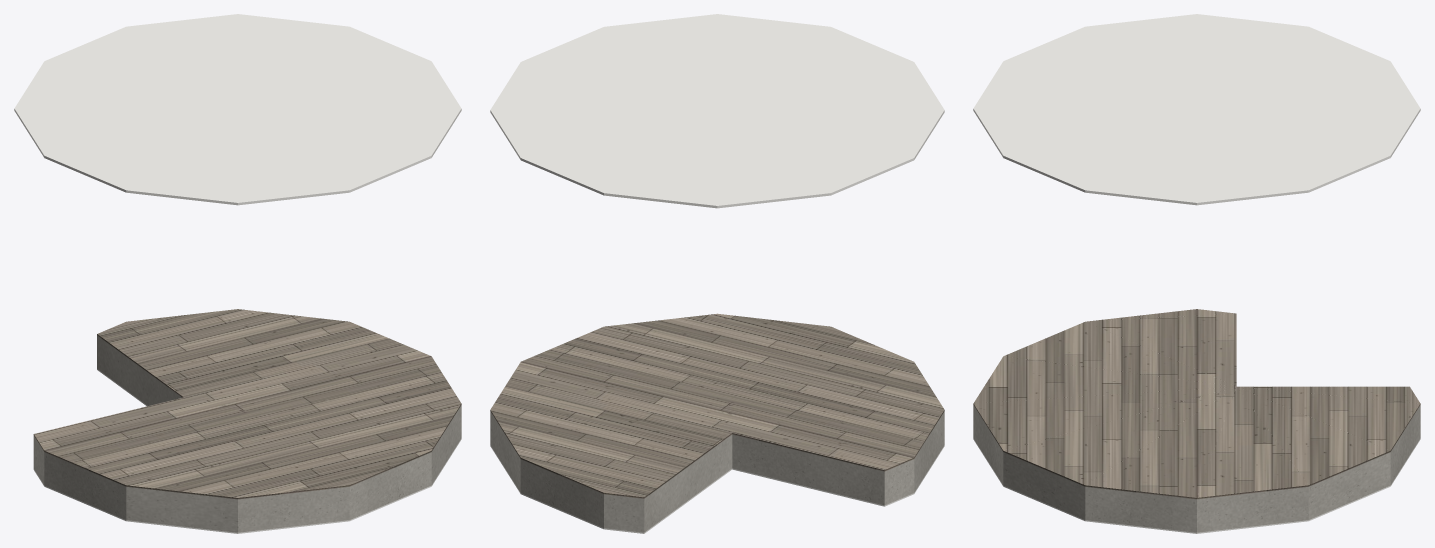
The model's file is turret_top.glb.
3 renders of one model, left to right at view 1: azimuth 30°, elevation 25°; view 2: azimuth 150°, elevation 25°; view 3: azimuth 270°, elevation 25°, orthographic.
Parts seen in each view (by area): view 1: turret_top_ceil, turret_top_deck, turret_top_concrete; view 2: turret_top_ceil, turret_top_deck, turret_top_concrete; view 3: turret_top_ceil, turret_top_deck, turret_top_concrete.
Part boxes in pixels (x1=…): turret_top_ceil: x1=14, y1=14, x2=461, y2=533; turret_top_deck: x1=33, y1=309, x2=461, y2=499; turret_top_concrete: x1=33, y1=335, x2=461, y2=532; turret_top_ceil: x1=490, y1=14, x2=944, y2=533; turret_top_deck: x1=490, y1=313, x2=944, y2=498; turret_top_concrete: x1=490, y1=411, x2=944, y2=532; turret_top_ceil: x1=973, y1=14, x2=1420, y2=533; turret_top_deck: x1=973, y1=309, x2=1420, y2=499; turret_top_concrete: x1=973, y1=405, x2=1420, y2=532.
Bounding box in the file's own units: 3.38 × 2.76 × 3.38.
Materials: 3 (2 with a texture image).
